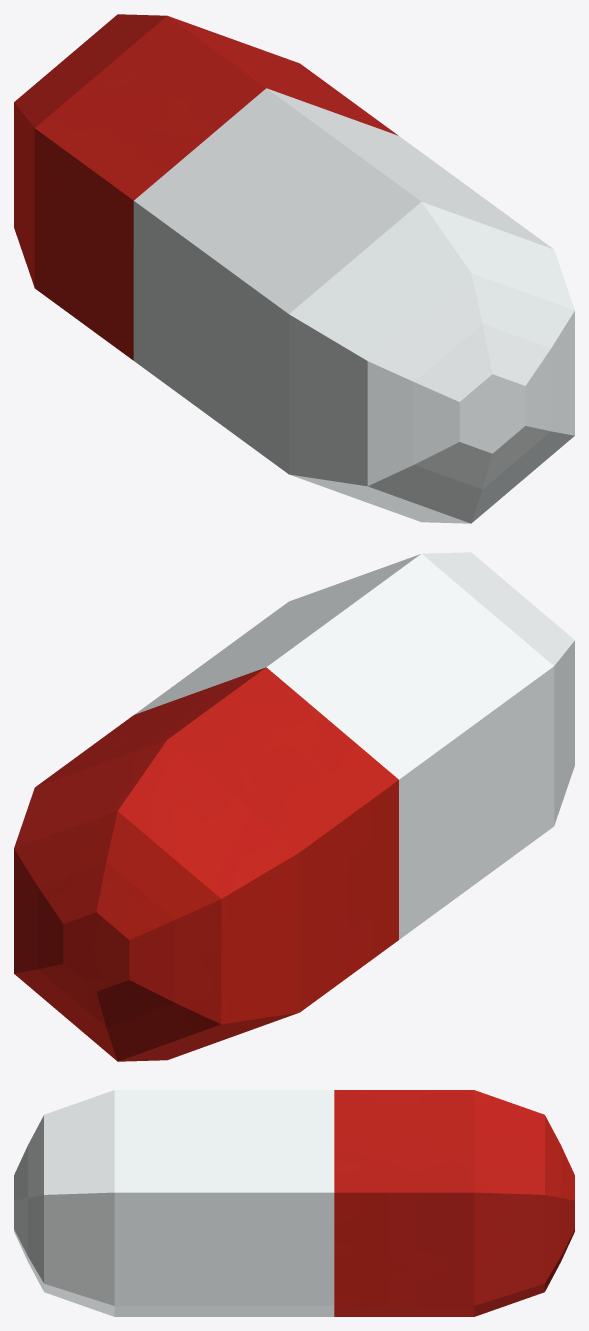
Rendered from LPPill.fbx.
3 views of the same model, one above another, from view 1: azimuth 30°, elevation 25°; view 2: azimuth 150°, elevation 25°; view 3: azimuth 270°, elevation 25° (orthographic). The views are drawn at different scales.
Visible parts, largest first — view 1: LPPill; view 2: LPPill; view 3: LPPill.
Boxes of the visible parts, x1=… form: LPPill: x1=14, y1=14, x2=574, y2=523; LPPill: x1=14, y1=552, x2=574, y2=1061; LPPill: x1=14, y1=1090, x2=574, y2=1316.
Size of the model in its own units: 122 by 141 by 317.
